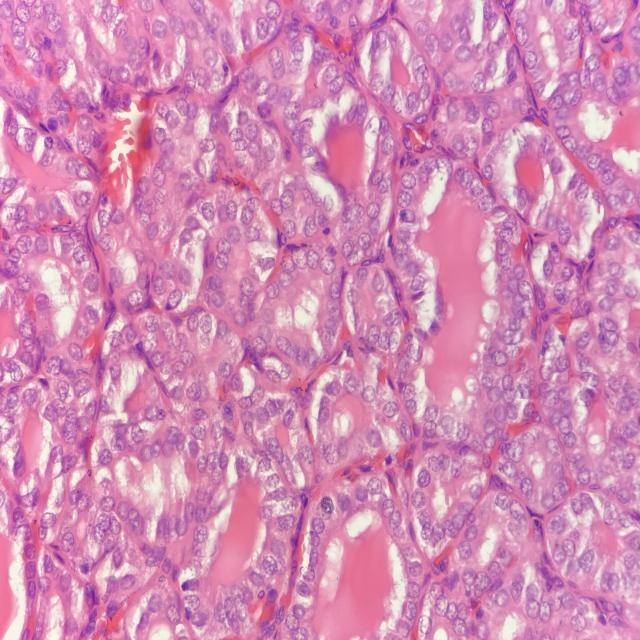TC: (178, 371, 212, 408), (246, 329, 273, 360), (359, 374, 381, 412), (317, 248, 340, 284), (185, 415, 212, 444), (291, 239, 312, 275), (239, 220, 265, 249), (321, 442, 344, 474), (127, 422, 157, 446), (229, 300, 251, 332), (363, 472, 385, 503), (260, 434, 284, 462), (341, 368, 361, 400), (105, 324, 127, 353), (195, 309, 216, 339), (122, 287, 149, 310), (367, 315, 385, 349), (379, 397, 400, 426), (277, 330, 299, 357), (417, 417, 439, 444), (475, 364, 497, 391), (262, 277, 284, 303), (369, 269, 392, 293), (141, 314, 166, 334), (356, 226, 375, 252), (280, 215, 301, 238), (211, 253, 233, 274), (194, 451, 209, 475)
